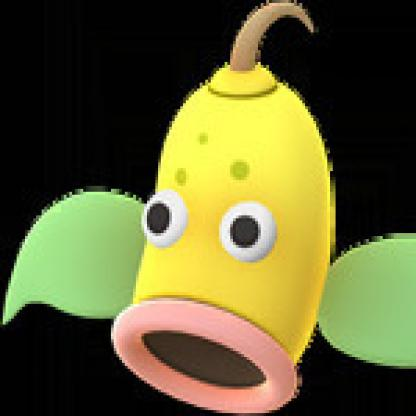Weepinbell: (10, 22, 415, 402)
